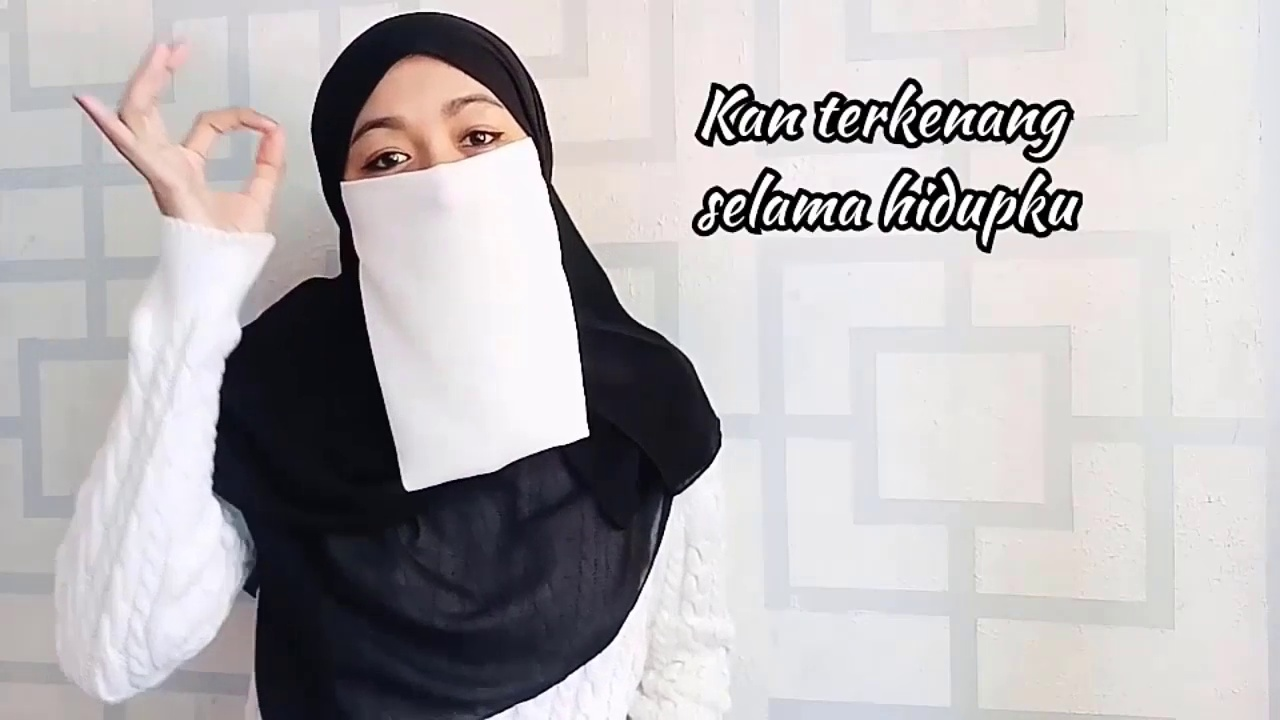TERKENANG: (67, 25, 556, 318)
